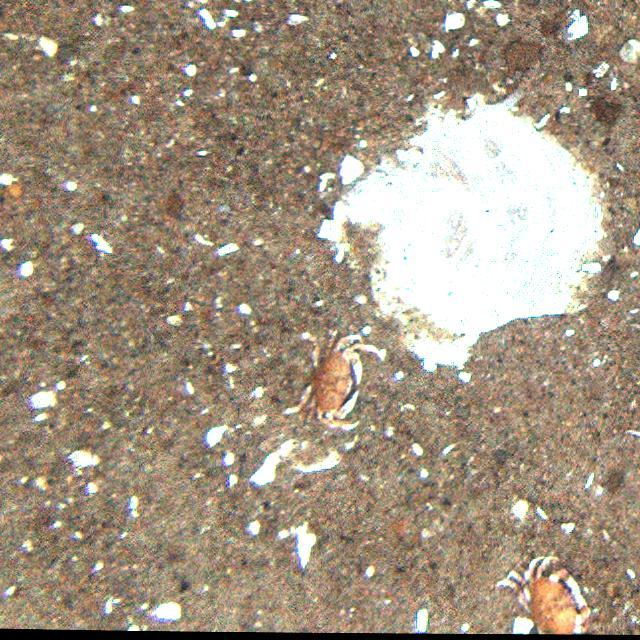crab: (290, 330, 380, 430), (500, 554, 597, 636)
